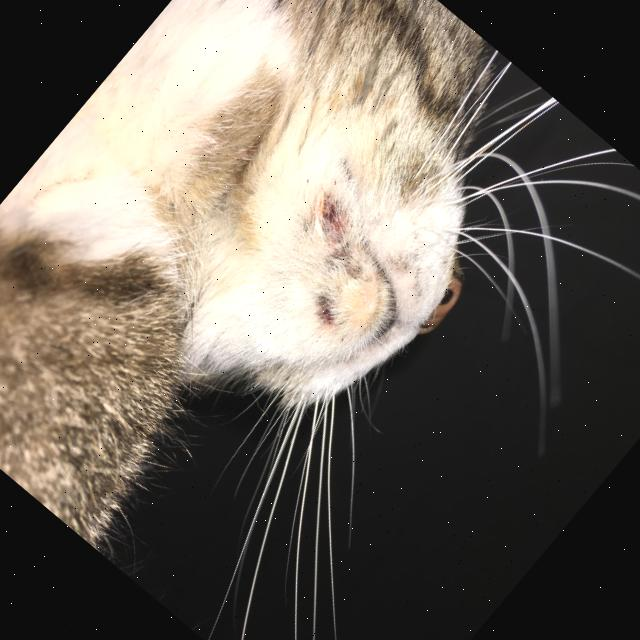cat-acne: (306, 192, 356, 238), (304, 290, 346, 331)
